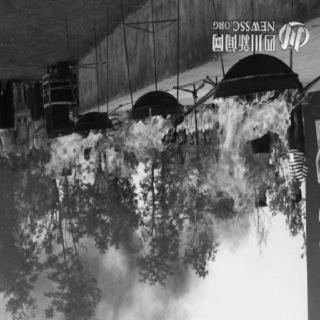Fire: (185, 74, 311, 218), (109, 100, 176, 182), (40, 111, 112, 185), (13, 182, 53, 254)
